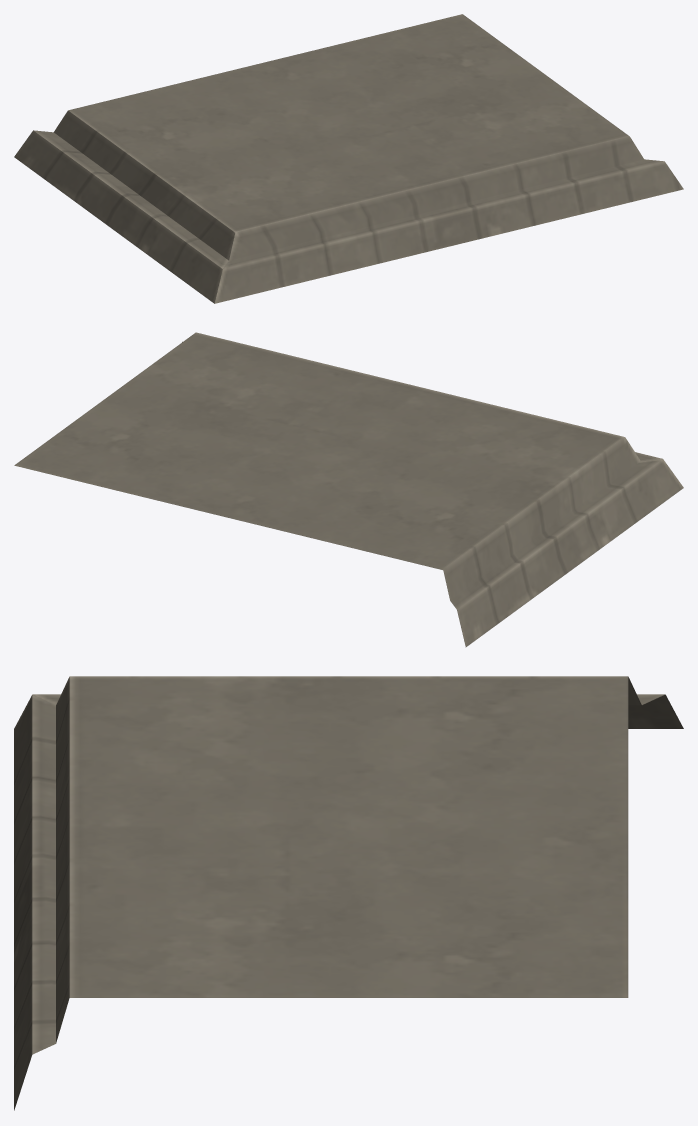
Rendered from ruin_temple_1.FBX.
The picture shows the model from 3 angles, top to bottom: view 1: azimuth 30°, elevation 25°; view 2: azimuth 150°, elevation 25°; view 3: azimuth 270°, elevation 25°; orthographic projection. The views are drawn at different scales.
Visible parts, largest first — view 1: Object016; view 2: Object016; view 3: Object016.
Part boxes in pixels (x1=…): Object016: x1=14, y1=14, x2=683, y2=303; Object016: x1=14, y1=332, x2=683, y2=647; Object016: x1=14, y1=676, x2=683, y2=1110.
Bounding box in the file's own units: 8.58 × 0.8694 × 6.35.
